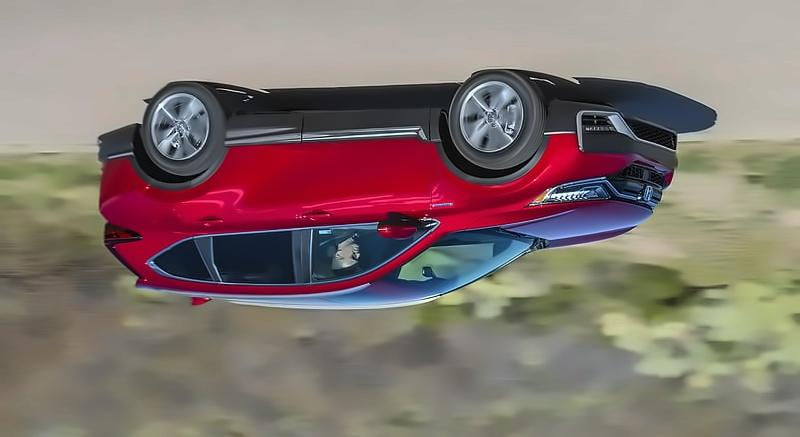Car hood: (494, 195, 658, 252)
Fender - -F-L-: (428, 107, 549, 241)
Fender - -R-L-: (135, 174, 192, 261)
Front bumper: (525, 95, 681, 190)
Headlight - -L-: (524, 172, 615, 210)
Passenger-s door - -F-L-: (302, 123, 427, 292)
Passenger-s door - -R-L-: (195, 124, 302, 289)
Rear bumper: (89, 121, 149, 220)
Rear light - -L-: (99, 220, 147, 254)
Side bumper - -L-: (218, 101, 449, 149)
Side mirror - -L-: (373, 213, 425, 244)
